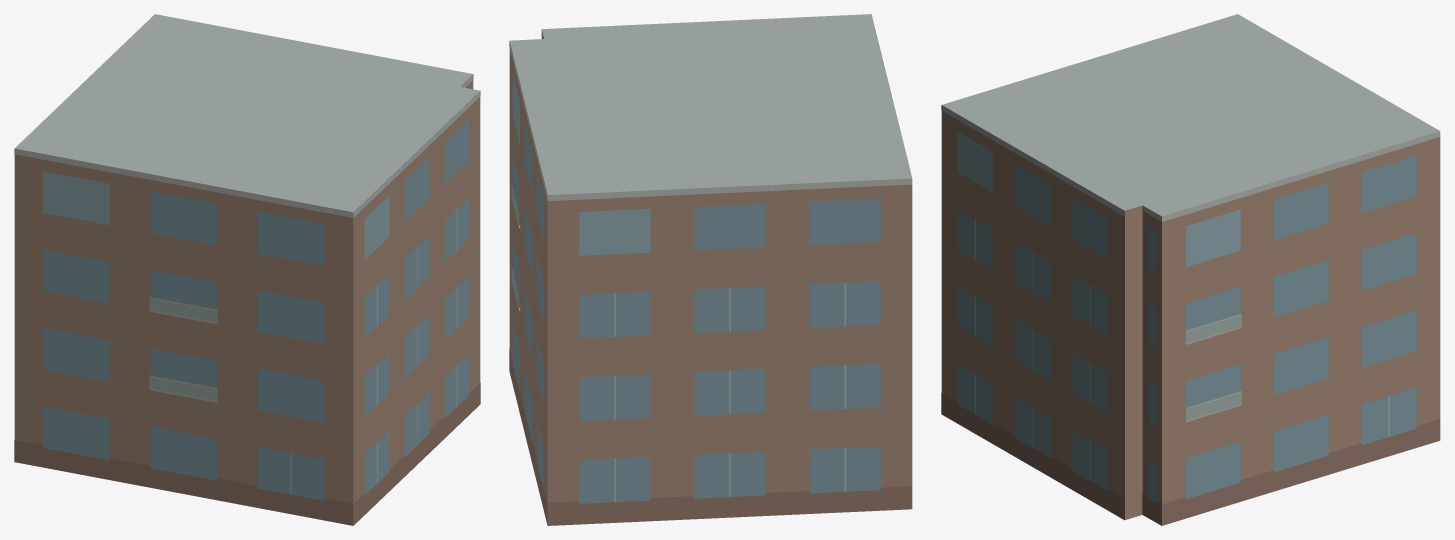
The model's file is survey-upis-32804486.glb.
The picture shows the model from 3 angles, left to right: view 1: azimuth 30°, elevation 25°; view 2: azimuth 150°, elevation 25°; view 3: azimuth 270°, elevation 25°; orthographic projection. The views are drawn at different scales.
Visible parts, largest first — view 1: survey-upis-32804486.tmp; view 2: survey-upis-32804486.tmp; view 3: survey-upis-32804486.tmp.
Boxes of the visible parts, x1,y1,x2,y2 form: survey-upis-32804486.tmp: [14, 14, 480, 525]; survey-upis-32804486.tmp: [509, 14, 912, 525]; survey-upis-32804486.tmp: [941, 14, 1440, 525].
Size of the model in its own units: 18.67 by 13.3 by 19.44.
